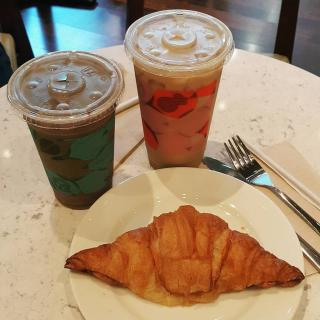Croissant: (76, 212, 305, 308)
